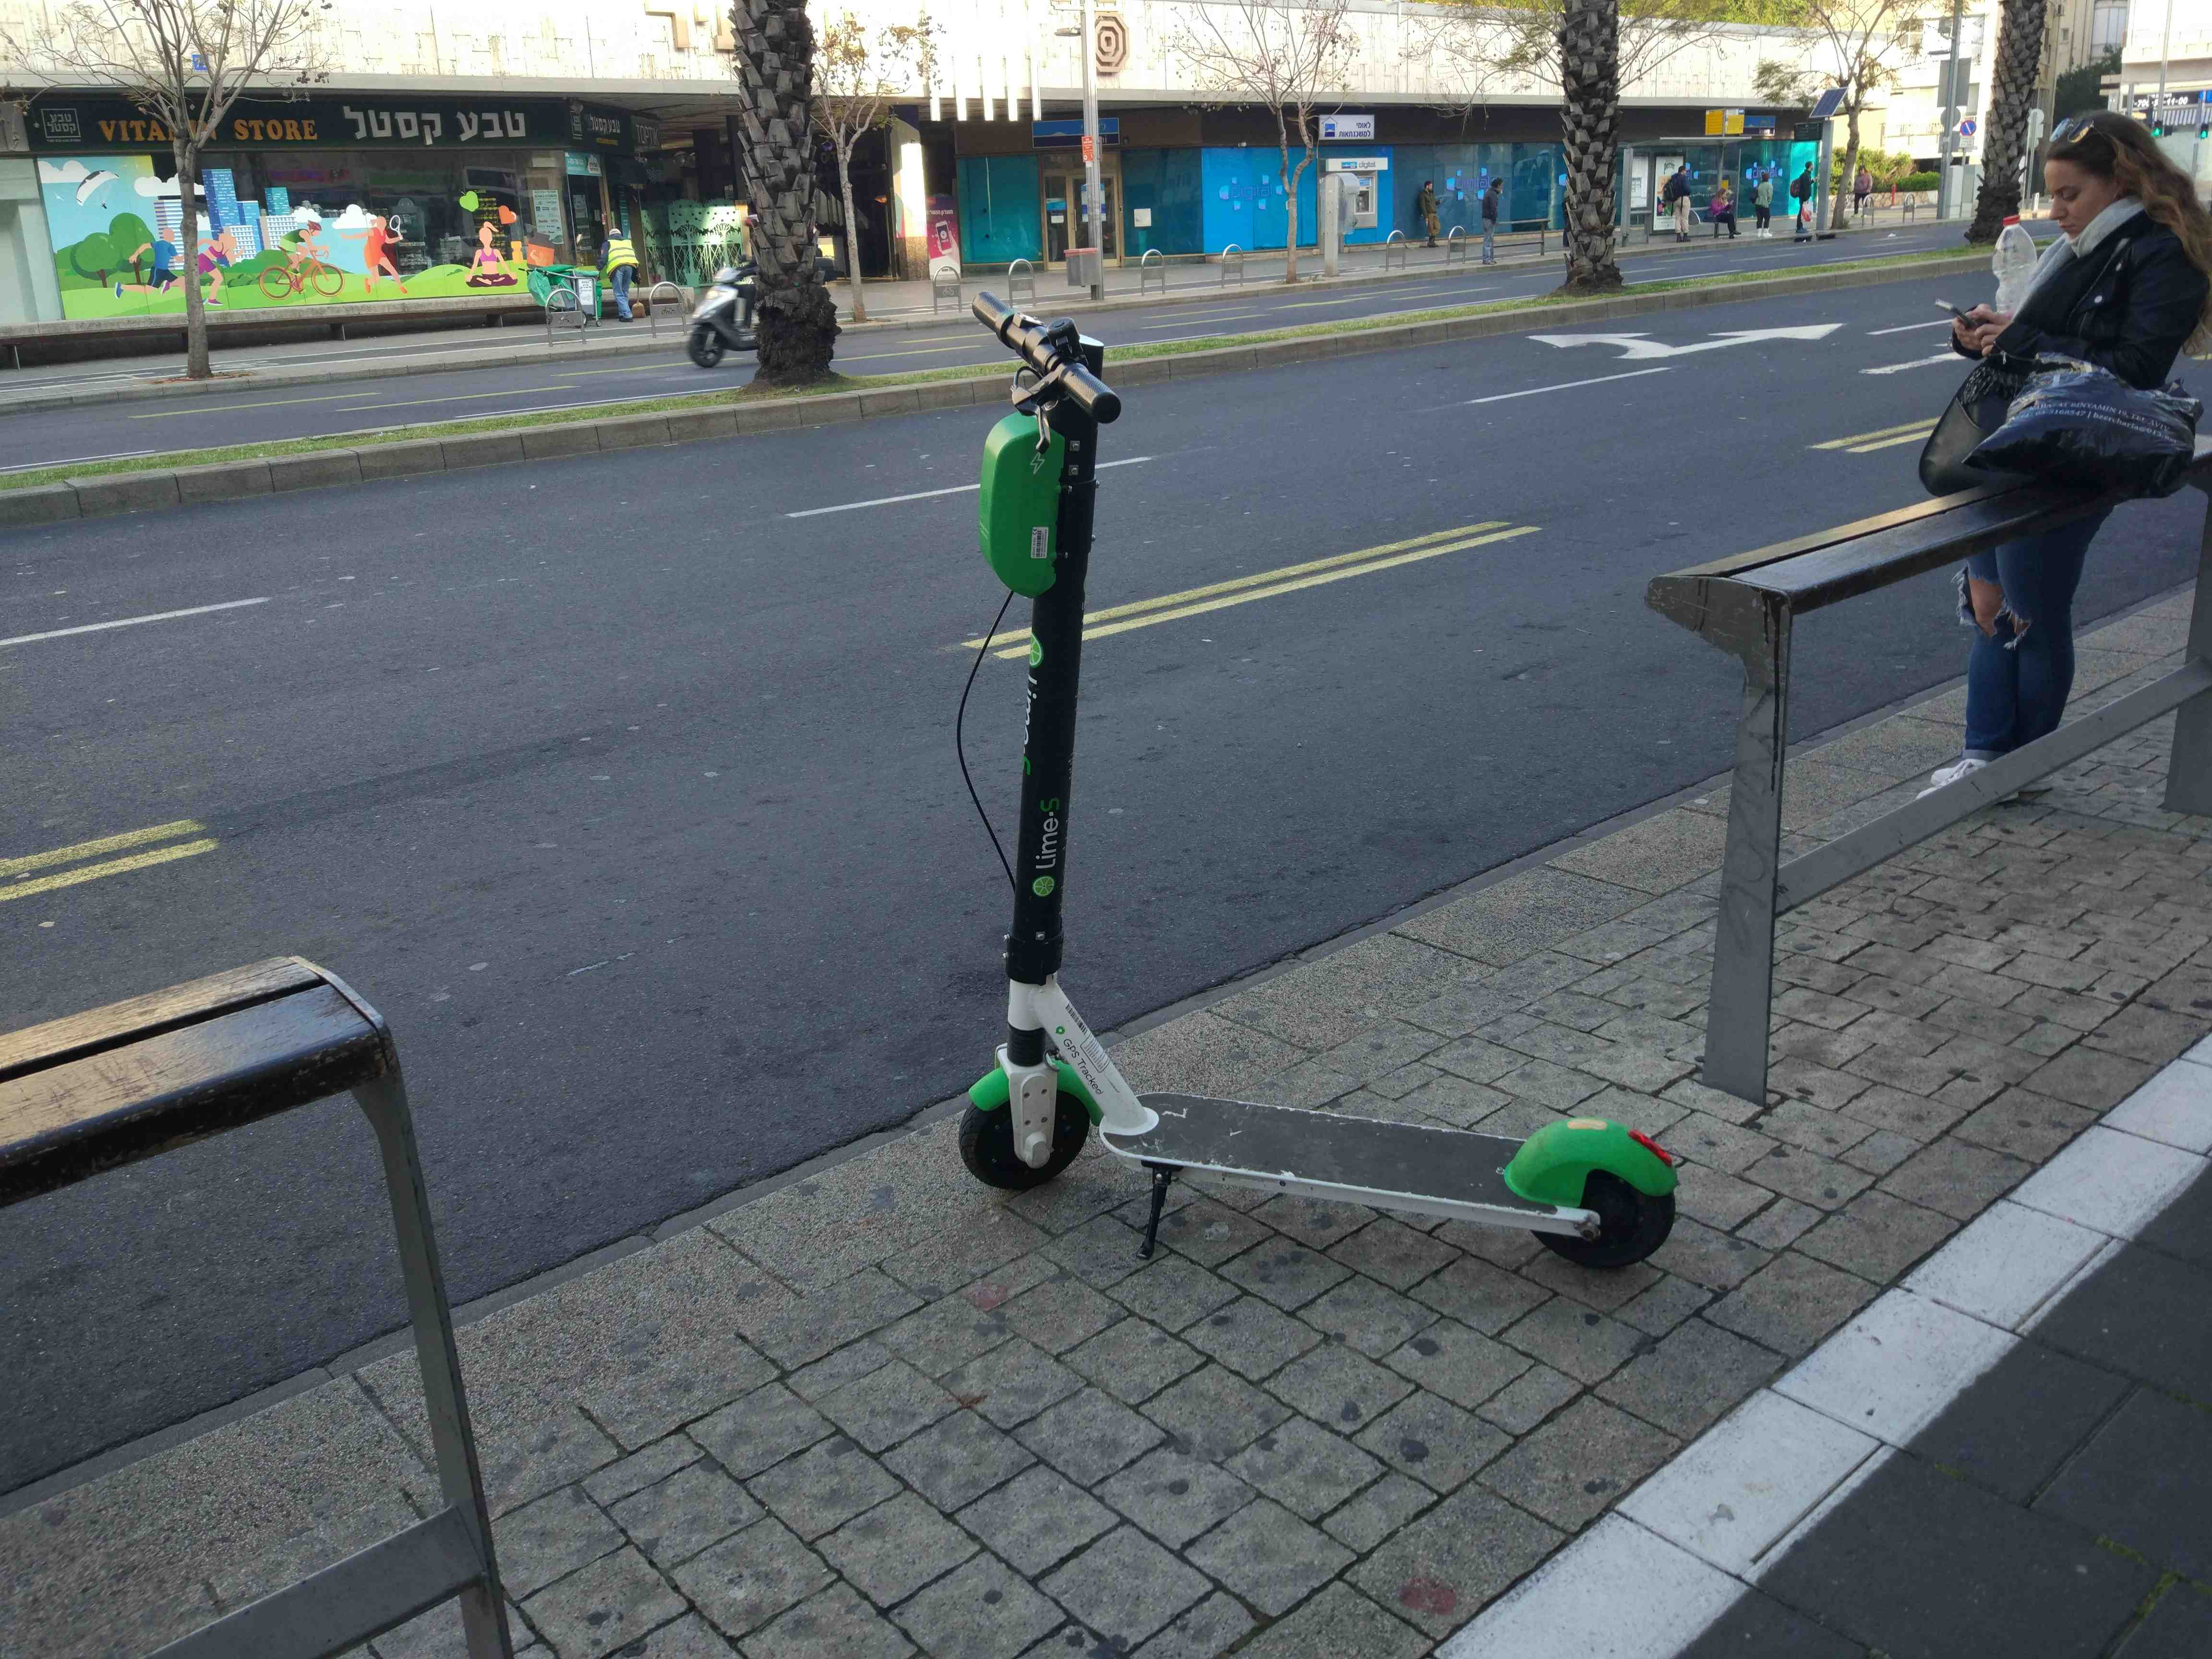too close: (894, 997, 1170, 1286)
